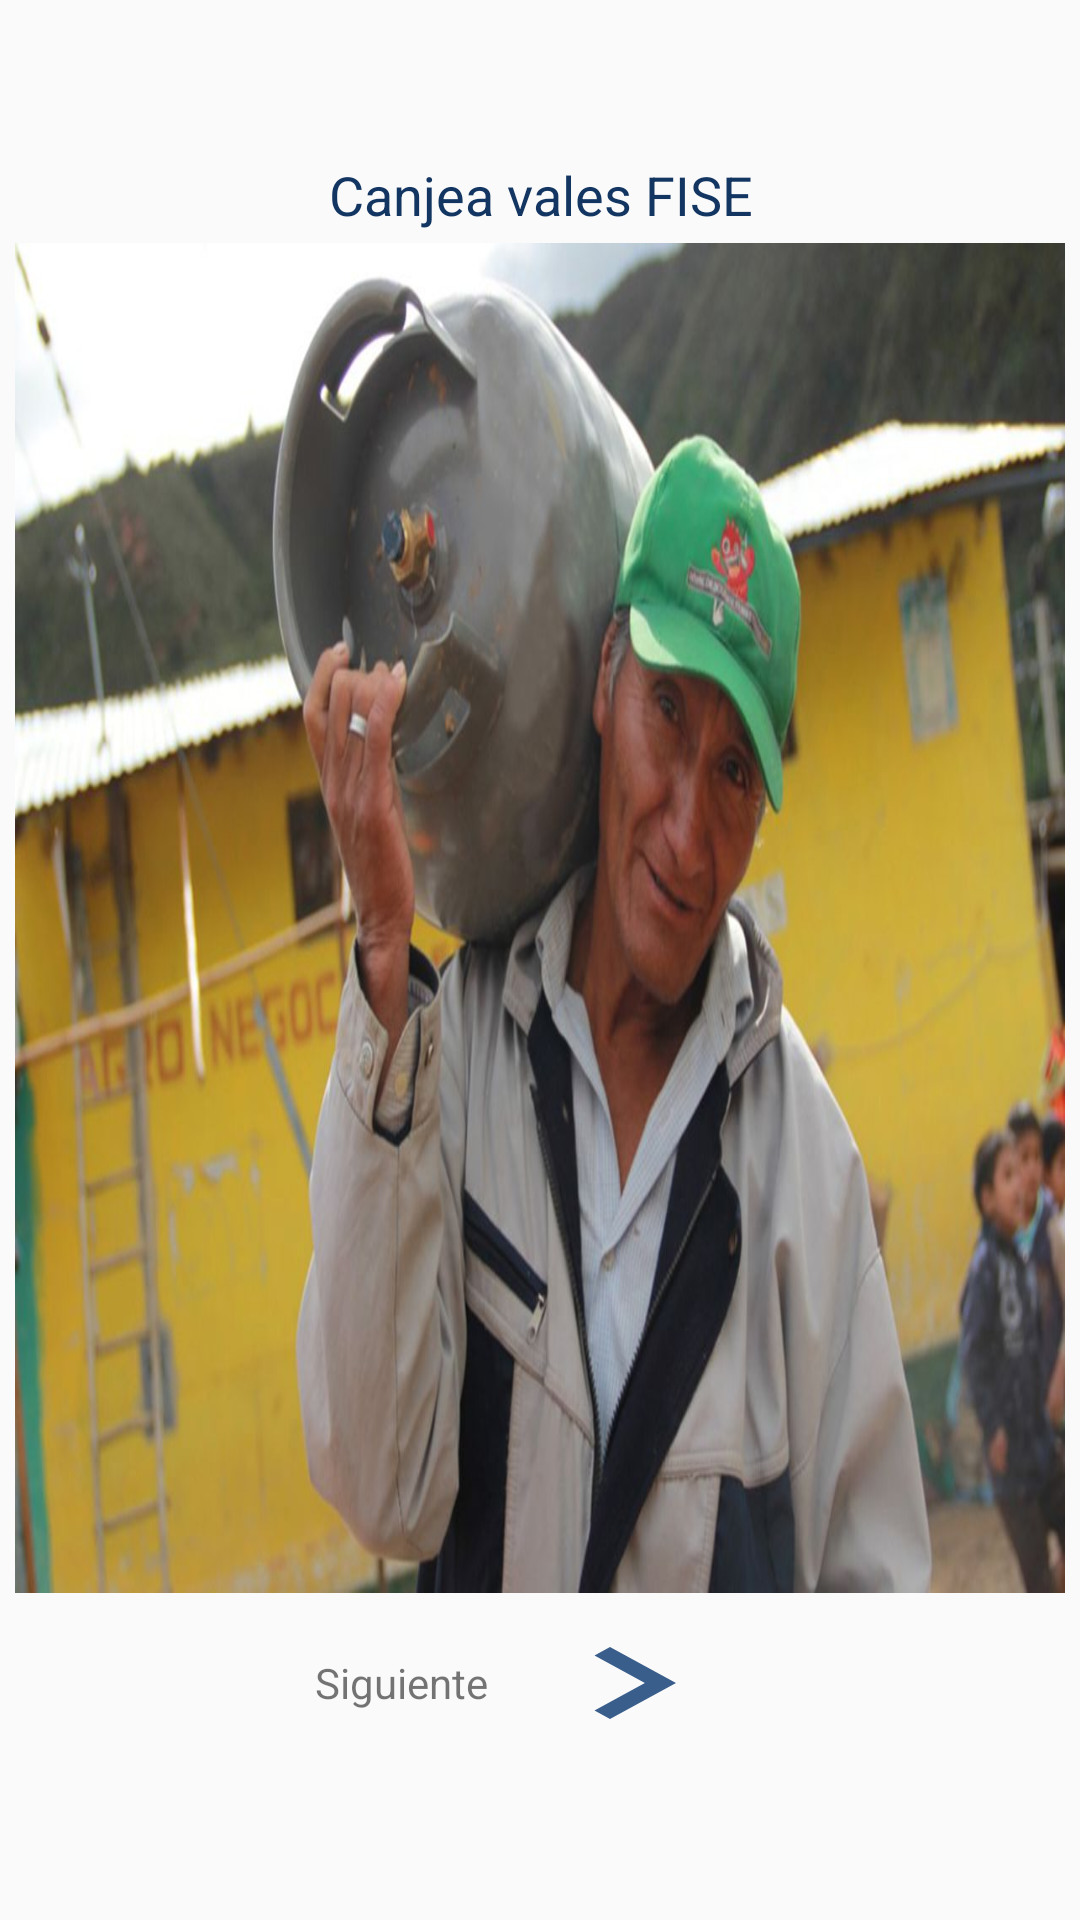

Icon click points for this 1080 × 1920 phone screenshot, format [x,y]:
sig: [635,1683]
